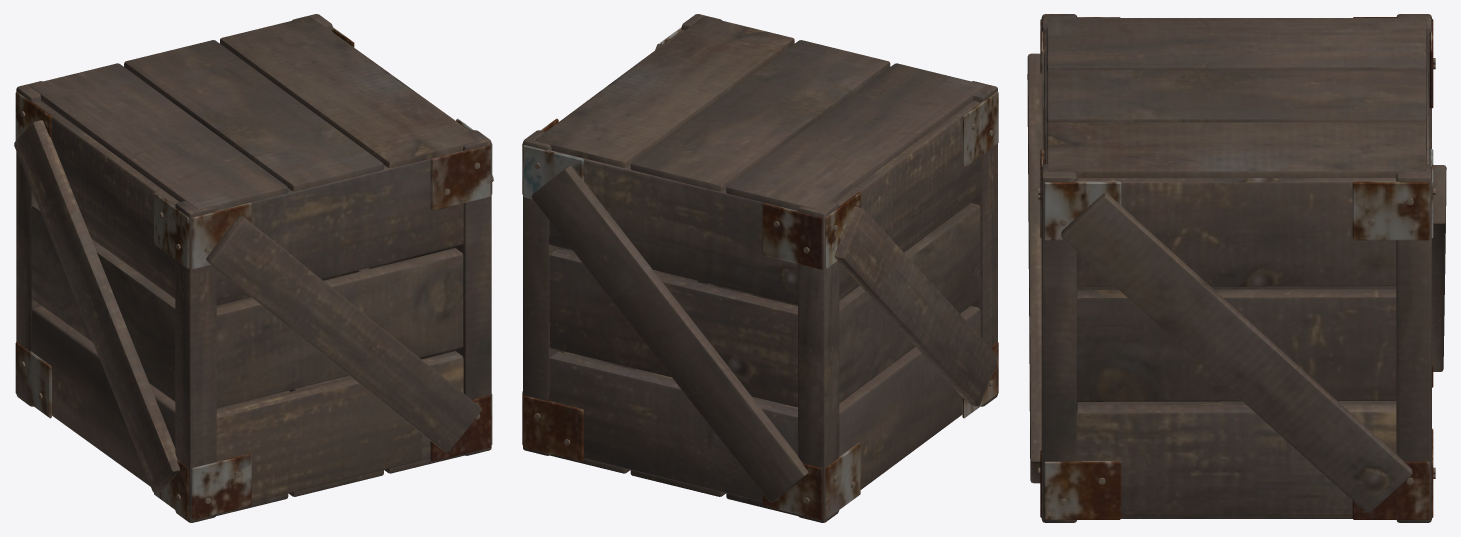
File: crate.glb
3 views of the same model, side by side, from view 1: azimuth 30°, elevation 25°; view 2: azimuth 150°, elevation 25°; view 3: azimuth 270°, elevation 25° (orthographic). The views are drawn at different scales.
Visible parts, largest first — view 1: crate_wood, crate_metal; view 2: crate_wood, crate_metal; view 3: crate_wood, crate_metal.
Part boxes in pixels (x1,y1,x2,y2): crate_wood: [14, 14, 493, 522]; crate_metal: [15, 27, 492, 519]; crate_wood: [522, 14, 998, 522]; crate_metal: [522, 27, 998, 519]; crate_wood: [1027, 14, 1446, 522]; crate_metal: [1038, 17, 1435, 519].
Bounding box in the file's own units: 0.3259 × 0.3 × 0.3262.
2 materials, 2 textured.
